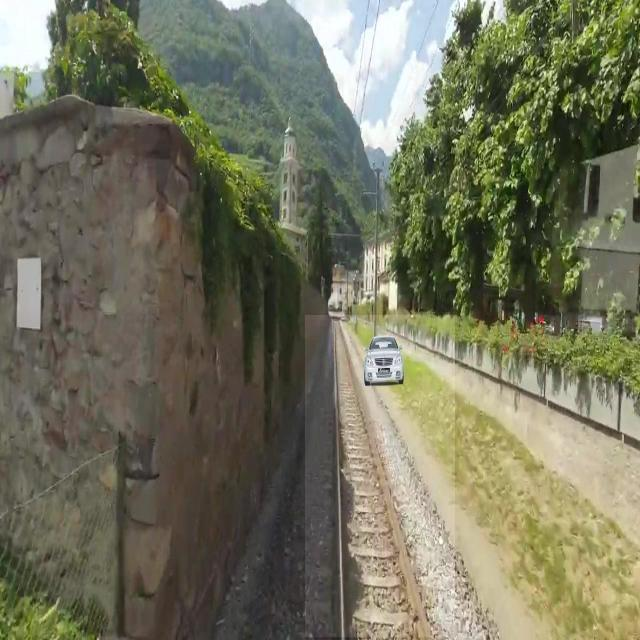rail: (306, 317, 456, 638)
